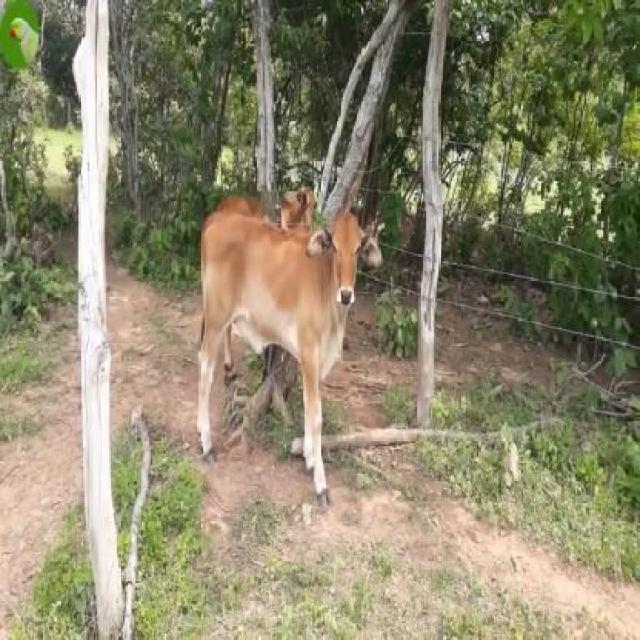Cow: (197, 208, 381, 506)
